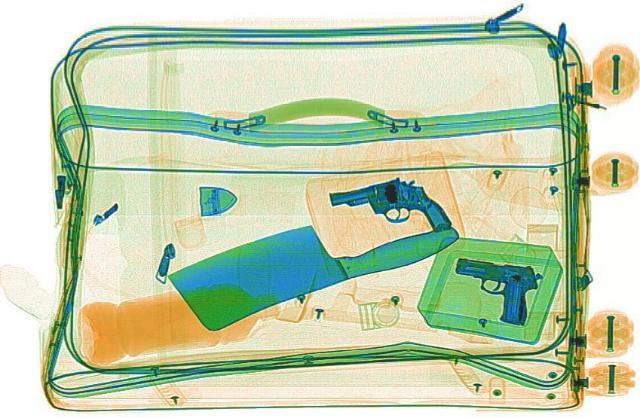Gun: (319, 170, 455, 246), (432, 250, 552, 323)
Knife: (143, 169, 469, 332)
